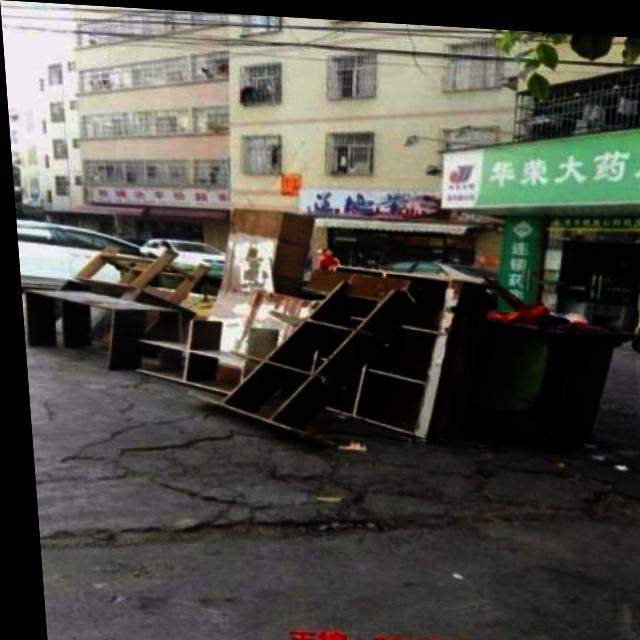overflow: (459, 293, 636, 444)
